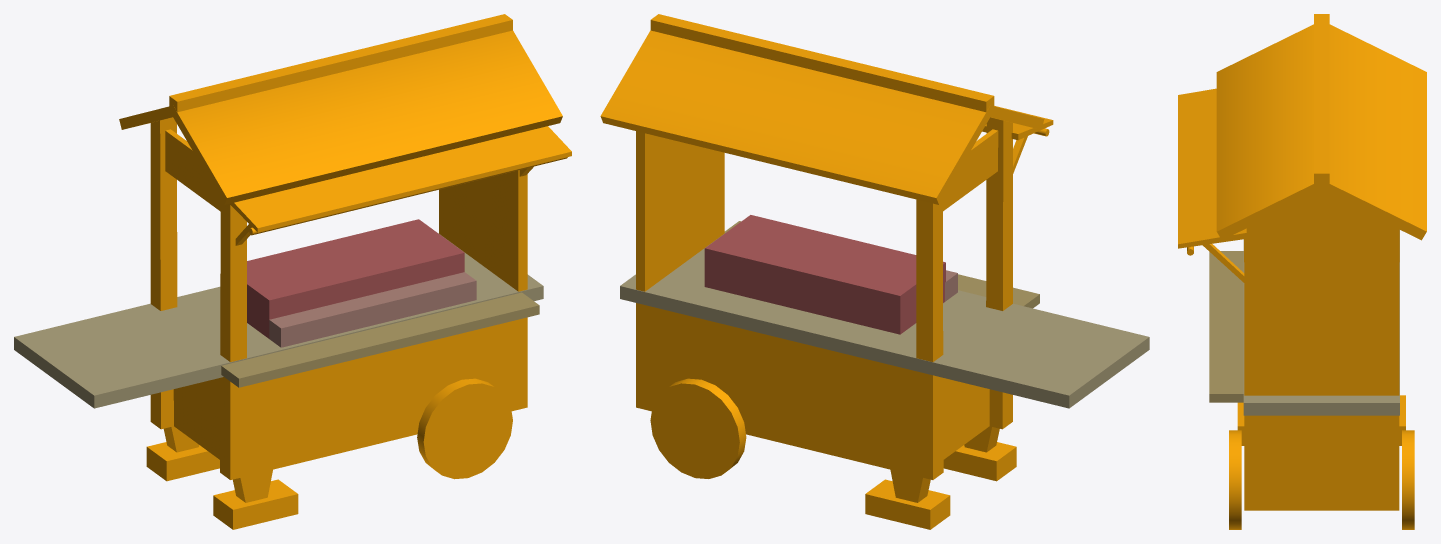
The model's file is Oden_Result_Yatai.gltf.
The picture shows the model from 3 angles, left to right: view 1: azimuth 30°, elevation 25°; view 2: azimuth 150°, elevation 25°; view 3: azimuth 270°, elevation 25°; orthographic projection. The views are drawn at different scales.
Visible parts, largest first — view 1: pCube2, pCube3, pCube1, pCube4, pCube7, pCube9, pCube13, pCylinder1, pCube8, pCube12, pCube5, pCube11 (+1 smaller); view 2: pCube2, pCube3, pCube4, pCube1, pCube7, pCylinder1, pCube8, pCube5, pCube11, pCube6, pCube13; view 3: pCube1, pCube2, pCube9, pCube13, pCube4, pCube8, pCylinder1, pCube5, pCube10.
Boxes of the visible parts, box(x1,y1,x2,y2) form: pCube2: box(119, 30, 562, 204); pCube3: box(173, 320, 518, 475); pCube1: box(150, 117, 527, 479); pCube4: box(14, 233, 543, 408); pCube7: box(247, 219, 464, 338); pCube9: box(229, 126, 571, 232); pCube13: box(221, 292, 539, 387); pCylinder1: box(417, 378, 512, 479); pCube8: box(169, 14, 512, 112); pCube12: box(269, 272, 476, 347); pCube5: box(146, 442, 298, 529); pCube11: box(165, 129, 220, 211); pCube2: box(600, 30, 1044, 204); pCube3: box(645, 305, 989, 475); pCube4: box(620, 233, 1149, 408); pCube1: box(636, 117, 1012, 479); pCube7: box(704, 215, 945, 334); pCylinder1: box(650, 378, 746, 478); pCube8: box(650, 14, 994, 112); pCube5: box(865, 442, 1016, 529); pCube11: box(942, 129, 998, 211); pCube6: box(890, 426, 999, 502); pCube13: box(724, 221, 1039, 308); pCube1: box(1244, 191, 1399, 510); pCube2: box(1216, 24, 1426, 240); pCube9: box(1178, 88, 1246, 248); pCube13: box(1209, 251, 1243, 402); pCube4: box(1243, 230, 1399, 415); pCube8: box(1314, 14, 1329, 183); pCylinder1: box(1229, 430, 1414, 529); pCube5: box(1237, 395, 1405, 445); pCube10: box(1202, 244, 1244, 282).
Bounding box in the file's own units: 248 × 211 × 121.
